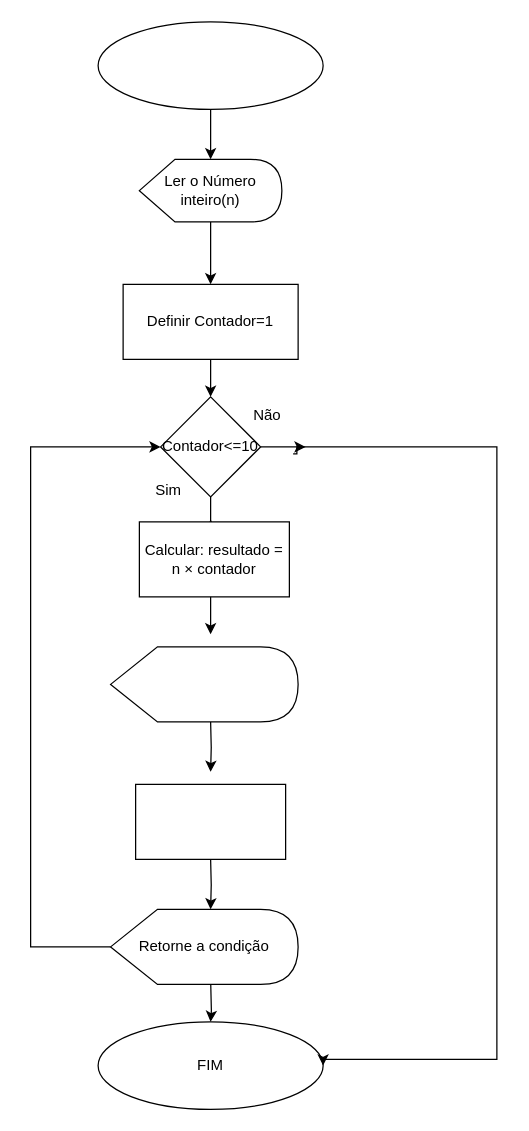
Image size: 529x1131. Some labels were removed from this diagram. Here are the shapes that lost their labels. From the top down, the centre of each, then its label:
(x=210, y=65): INICIO
(x=203, y=684): exibir: n x contador= resultado
(x=210, y=821): Adicione contador= contador +1
